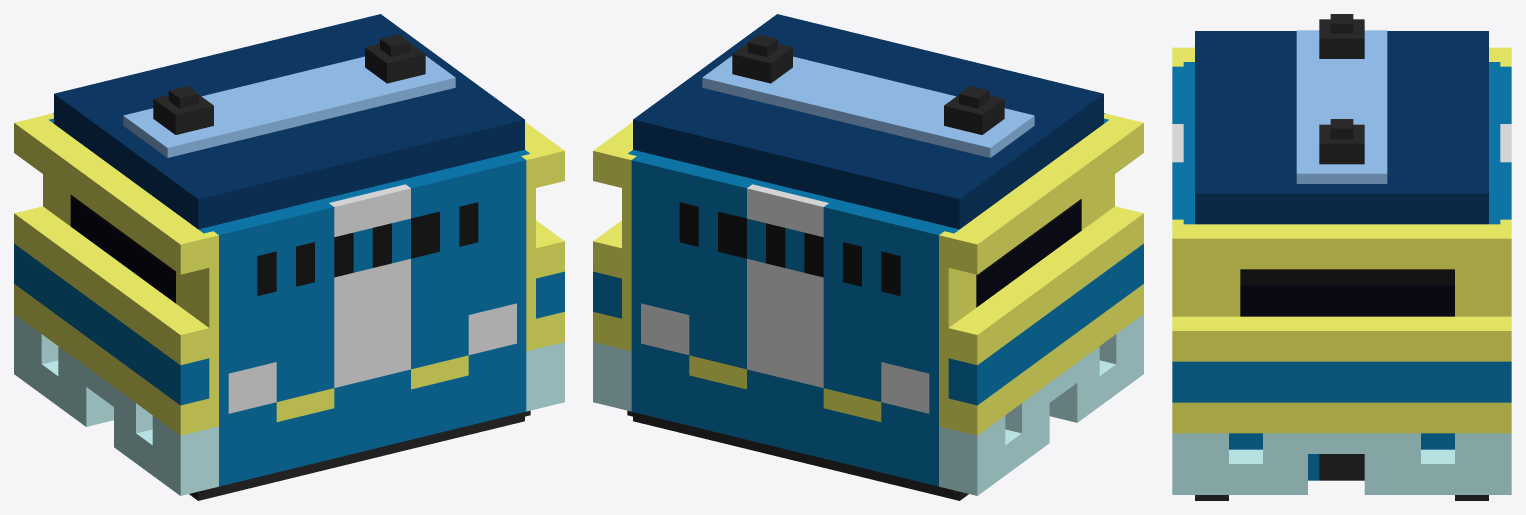
File: train.obj
3 views of the same model, side by side, from view 1: azimuth 30°, elevation 25°; view 2: azimuth 150°, elevation 25°; view 3: azimuth 270°, elevation 25° (orthographic).
Size of the model in its own units: 4 by 3.4 by 3.
Materials: 1 (1 with a texture image).
